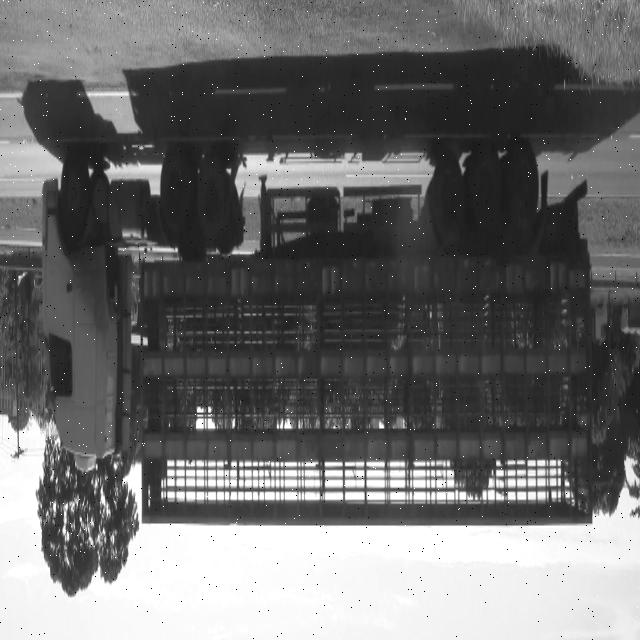-axle: (159, 143, 196, 240), (428, 156, 464, 244), (506, 148, 539, 240), (59, 143, 91, 234), (200, 146, 230, 240), (469, 150, 501, 237)
